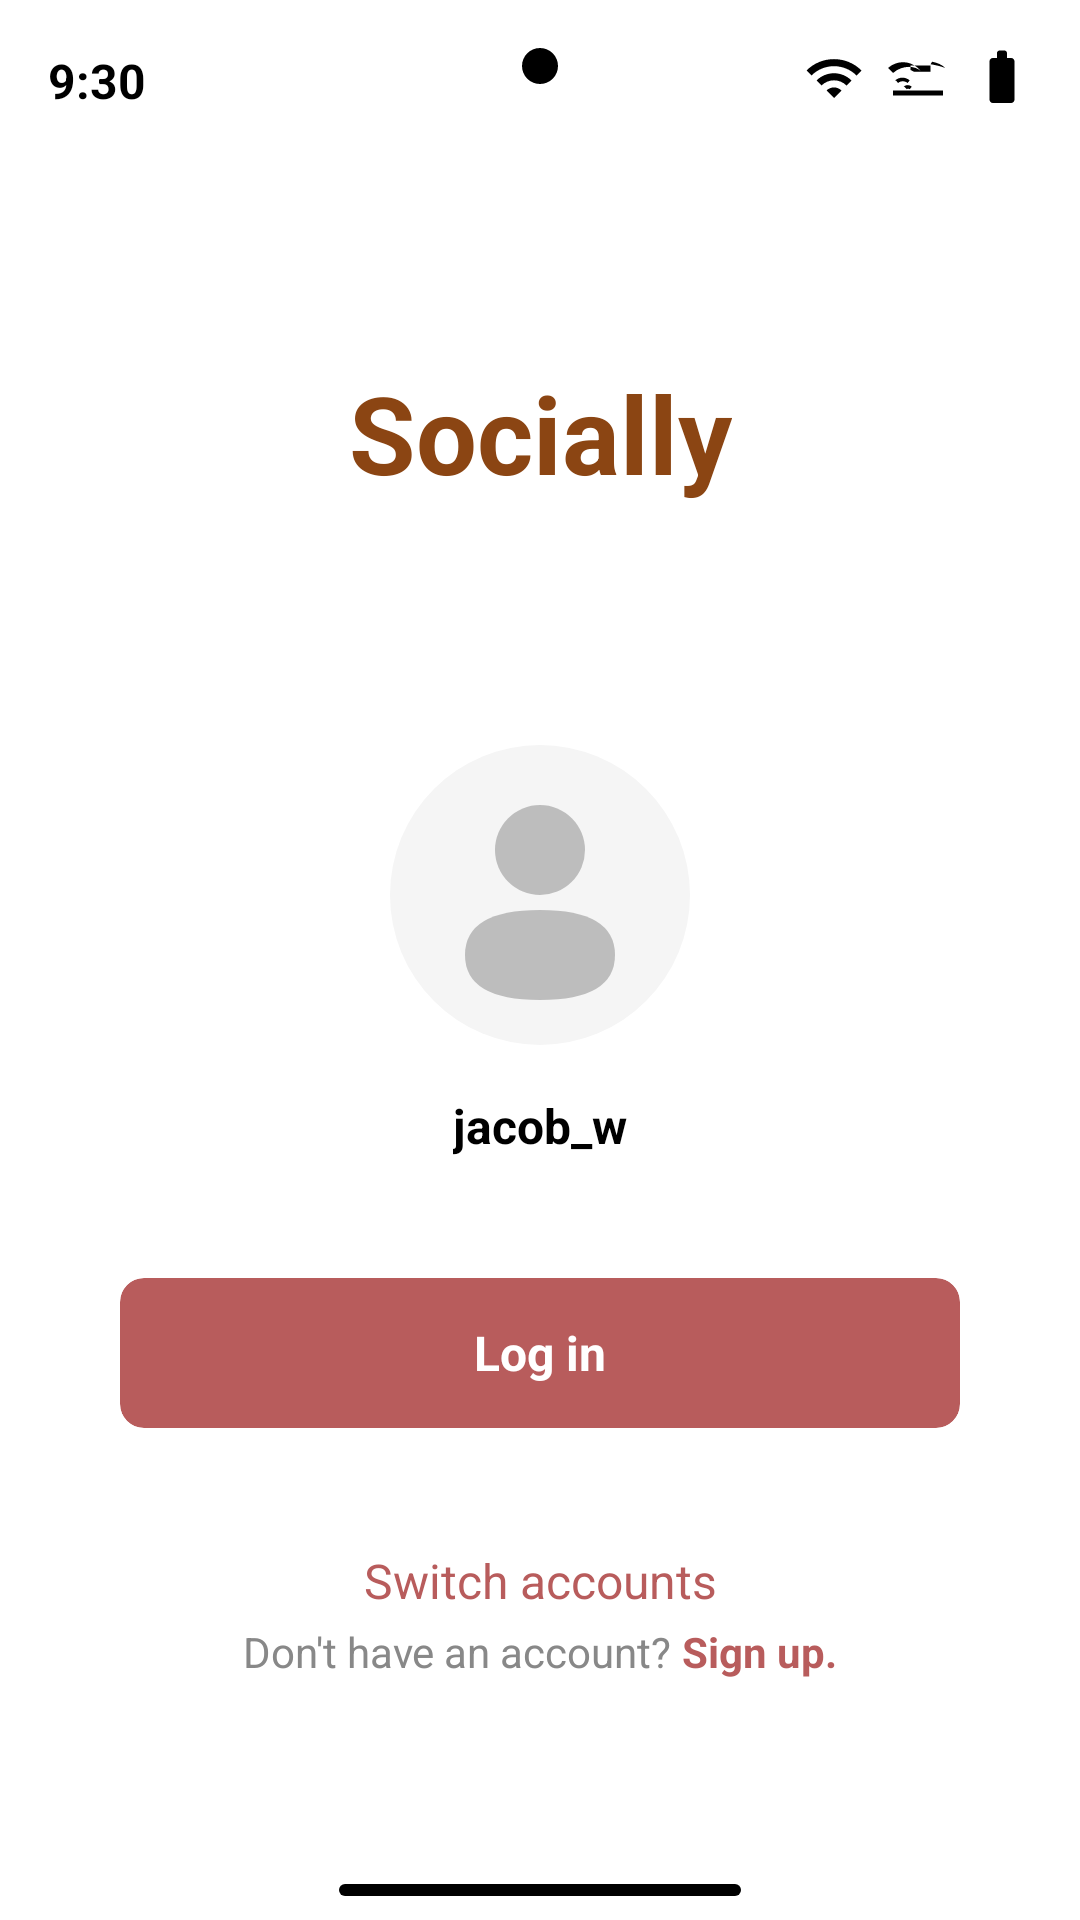

Icons on this 1080px×1920px Android screen, each with the point to tap as (x=x, y=y):
battery: (x=1002, y=76)
wifi: (x=834, y=78)
